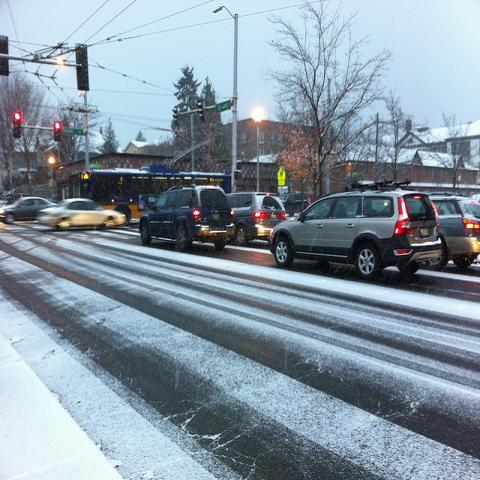bus: (81, 166, 231, 224)
car: (268, 190, 450, 281), (138, 186, 237, 253), (431, 196, 480, 268), (226, 191, 287, 248), (38, 196, 126, 229), (3, 196, 57, 223), (279, 192, 311, 216)
truck: (139, 186, 235, 248)
